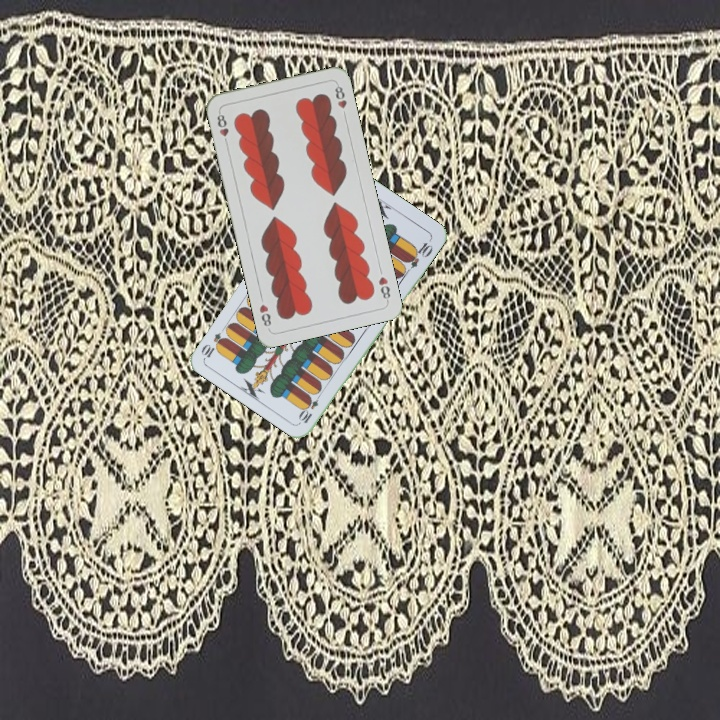E10: (296, 388, 324, 426)
H8: (213, 108, 231, 148), (374, 272, 393, 304)
